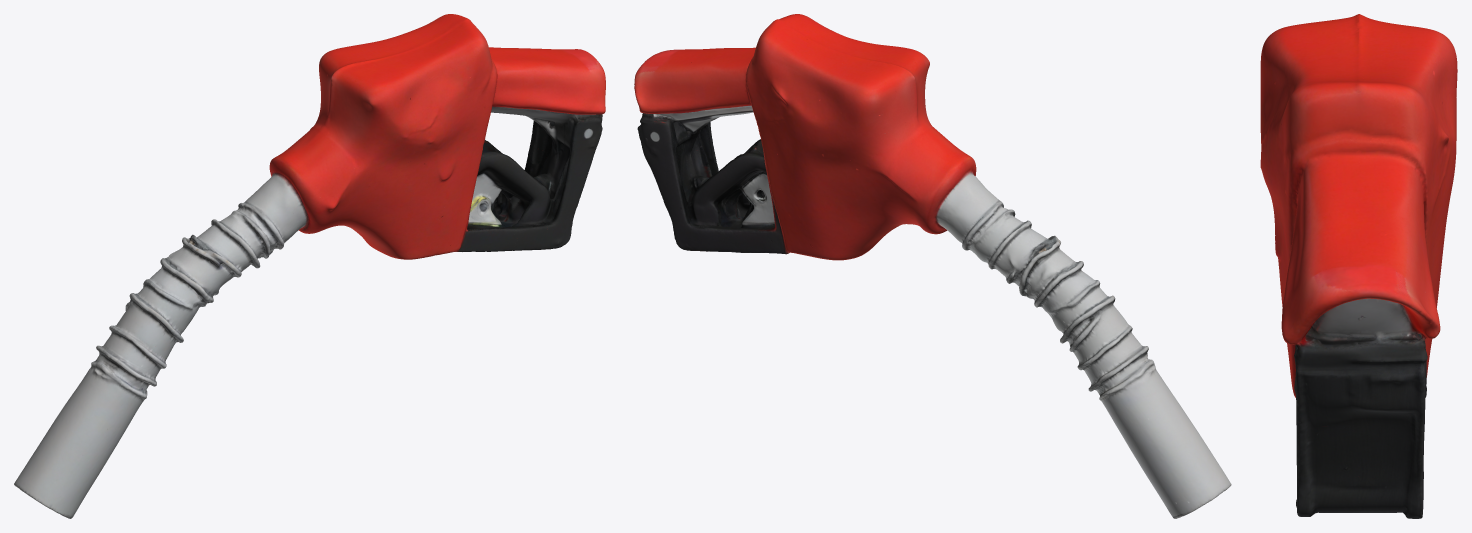
The model's file is PompaTabanca.fbx.
3 renders of one model, left to right at view 1: azimuth 30°, elevation 25°; view 2: azimuth 150°, elevation 25°; view 3: azimuth 270°, elevation 25°, orthographic. The views are drawn at different scales.
Visible parts, largest first — view 1: Mesh_0; view 2: Mesh_0; view 3: Mesh_0.
Part boxes in pixels (bbox=[...]): Mesh_0: bbox=[14, 14, 605, 518]; Mesh_0: bbox=[634, 14, 1231, 518]; Mesh_0: bbox=[1260, 14, 1457, 518].
Bounding box in the file's own units: 200 × 132 × 37.07.
1 material, 1 textured.
